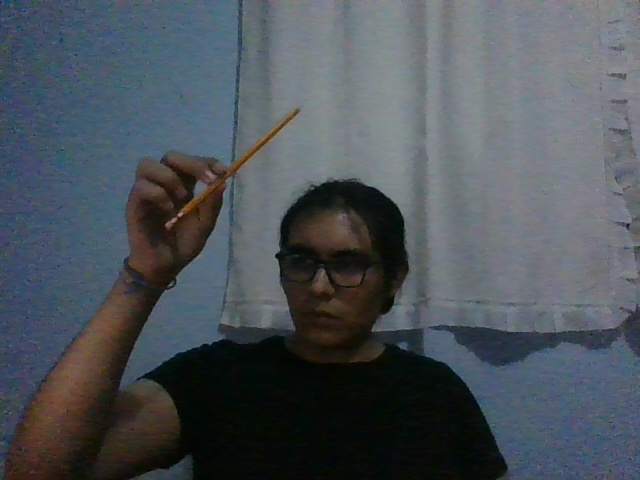lapiz: (165, 106, 301, 229)
